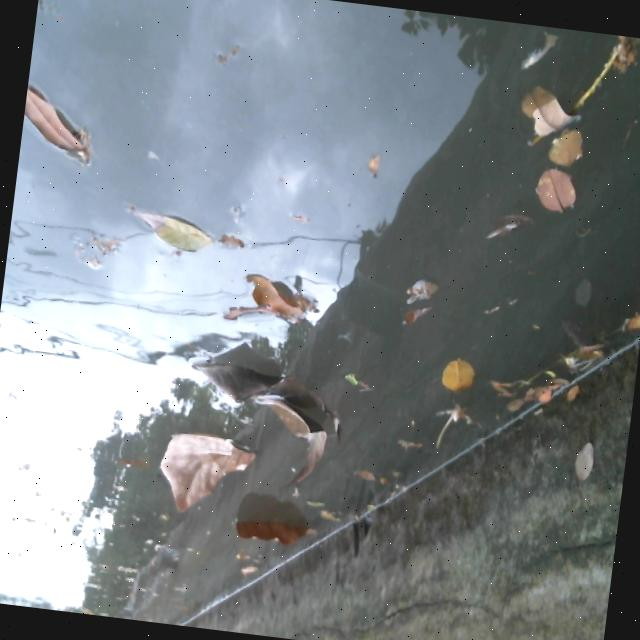Big-leaf: (175, 339, 350, 492), (141, 407, 275, 521), (218, 259, 334, 343)
Small-leaf: (17, 73, 111, 172), (112, 198, 228, 272), (374, 246, 451, 344), (416, 322, 497, 407), (511, 72, 579, 145), (530, 161, 584, 214), (544, 111, 597, 164), (233, 545, 282, 582)
